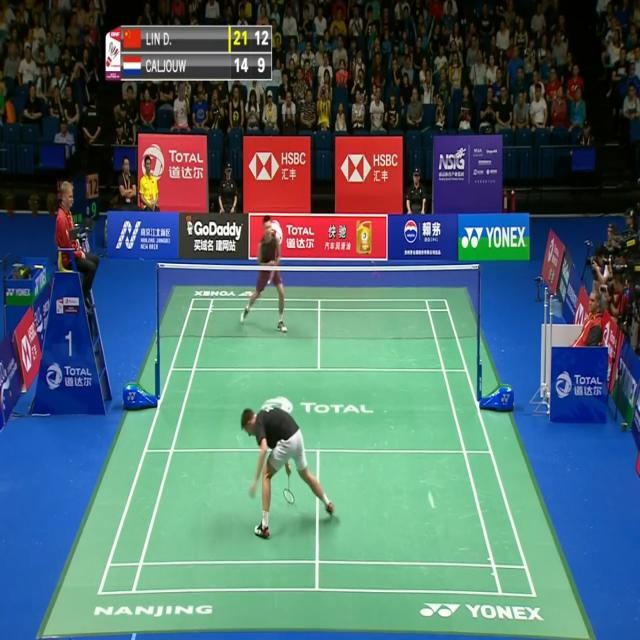Player1: (238, 397, 339, 543)
Player2: (238, 211, 290, 337)
